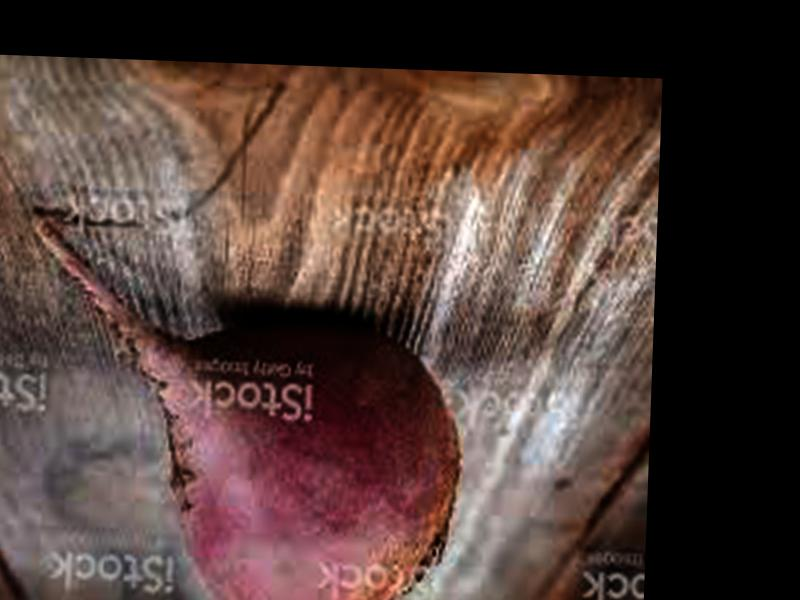Beet: (12, 212, 467, 600)
